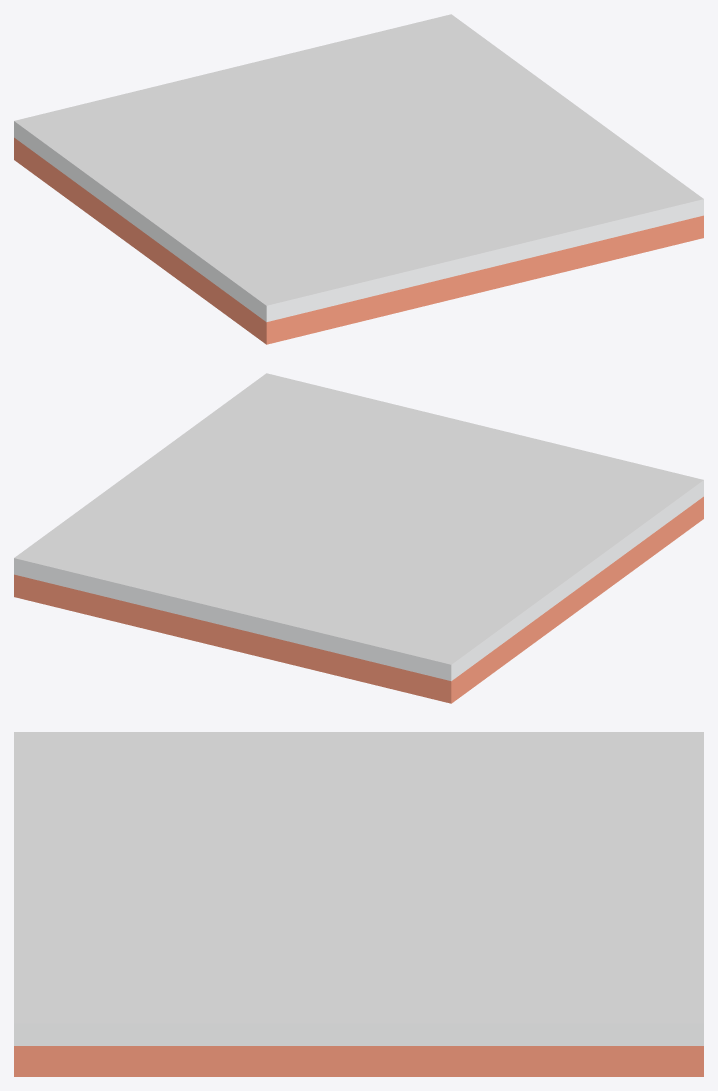
Rendered from platform_006.glb.
3 views of the same model, one above another, from view 1: azimuth 30°, elevation 25°; view 2: azimuth 150°, elevation 25°; view 3: azimuth 270°, elevation 25° (orthographic). The views are drawn at different scales.
Visible parts, largest first — view 1: platform_006; view 2: platform_006; view 3: platform_006.
Part boxes in pixels (x1=…): platform_006: x1=14, y1=14, x2=703, y2=344; platform_006: x1=14, y1=373, x2=703, y2=703; platform_006: x1=14, y1=732, x2=703, y2=1076.
Size of the model in its own units: 15 by 1.28 by 15.
1 material, 1 textured.
